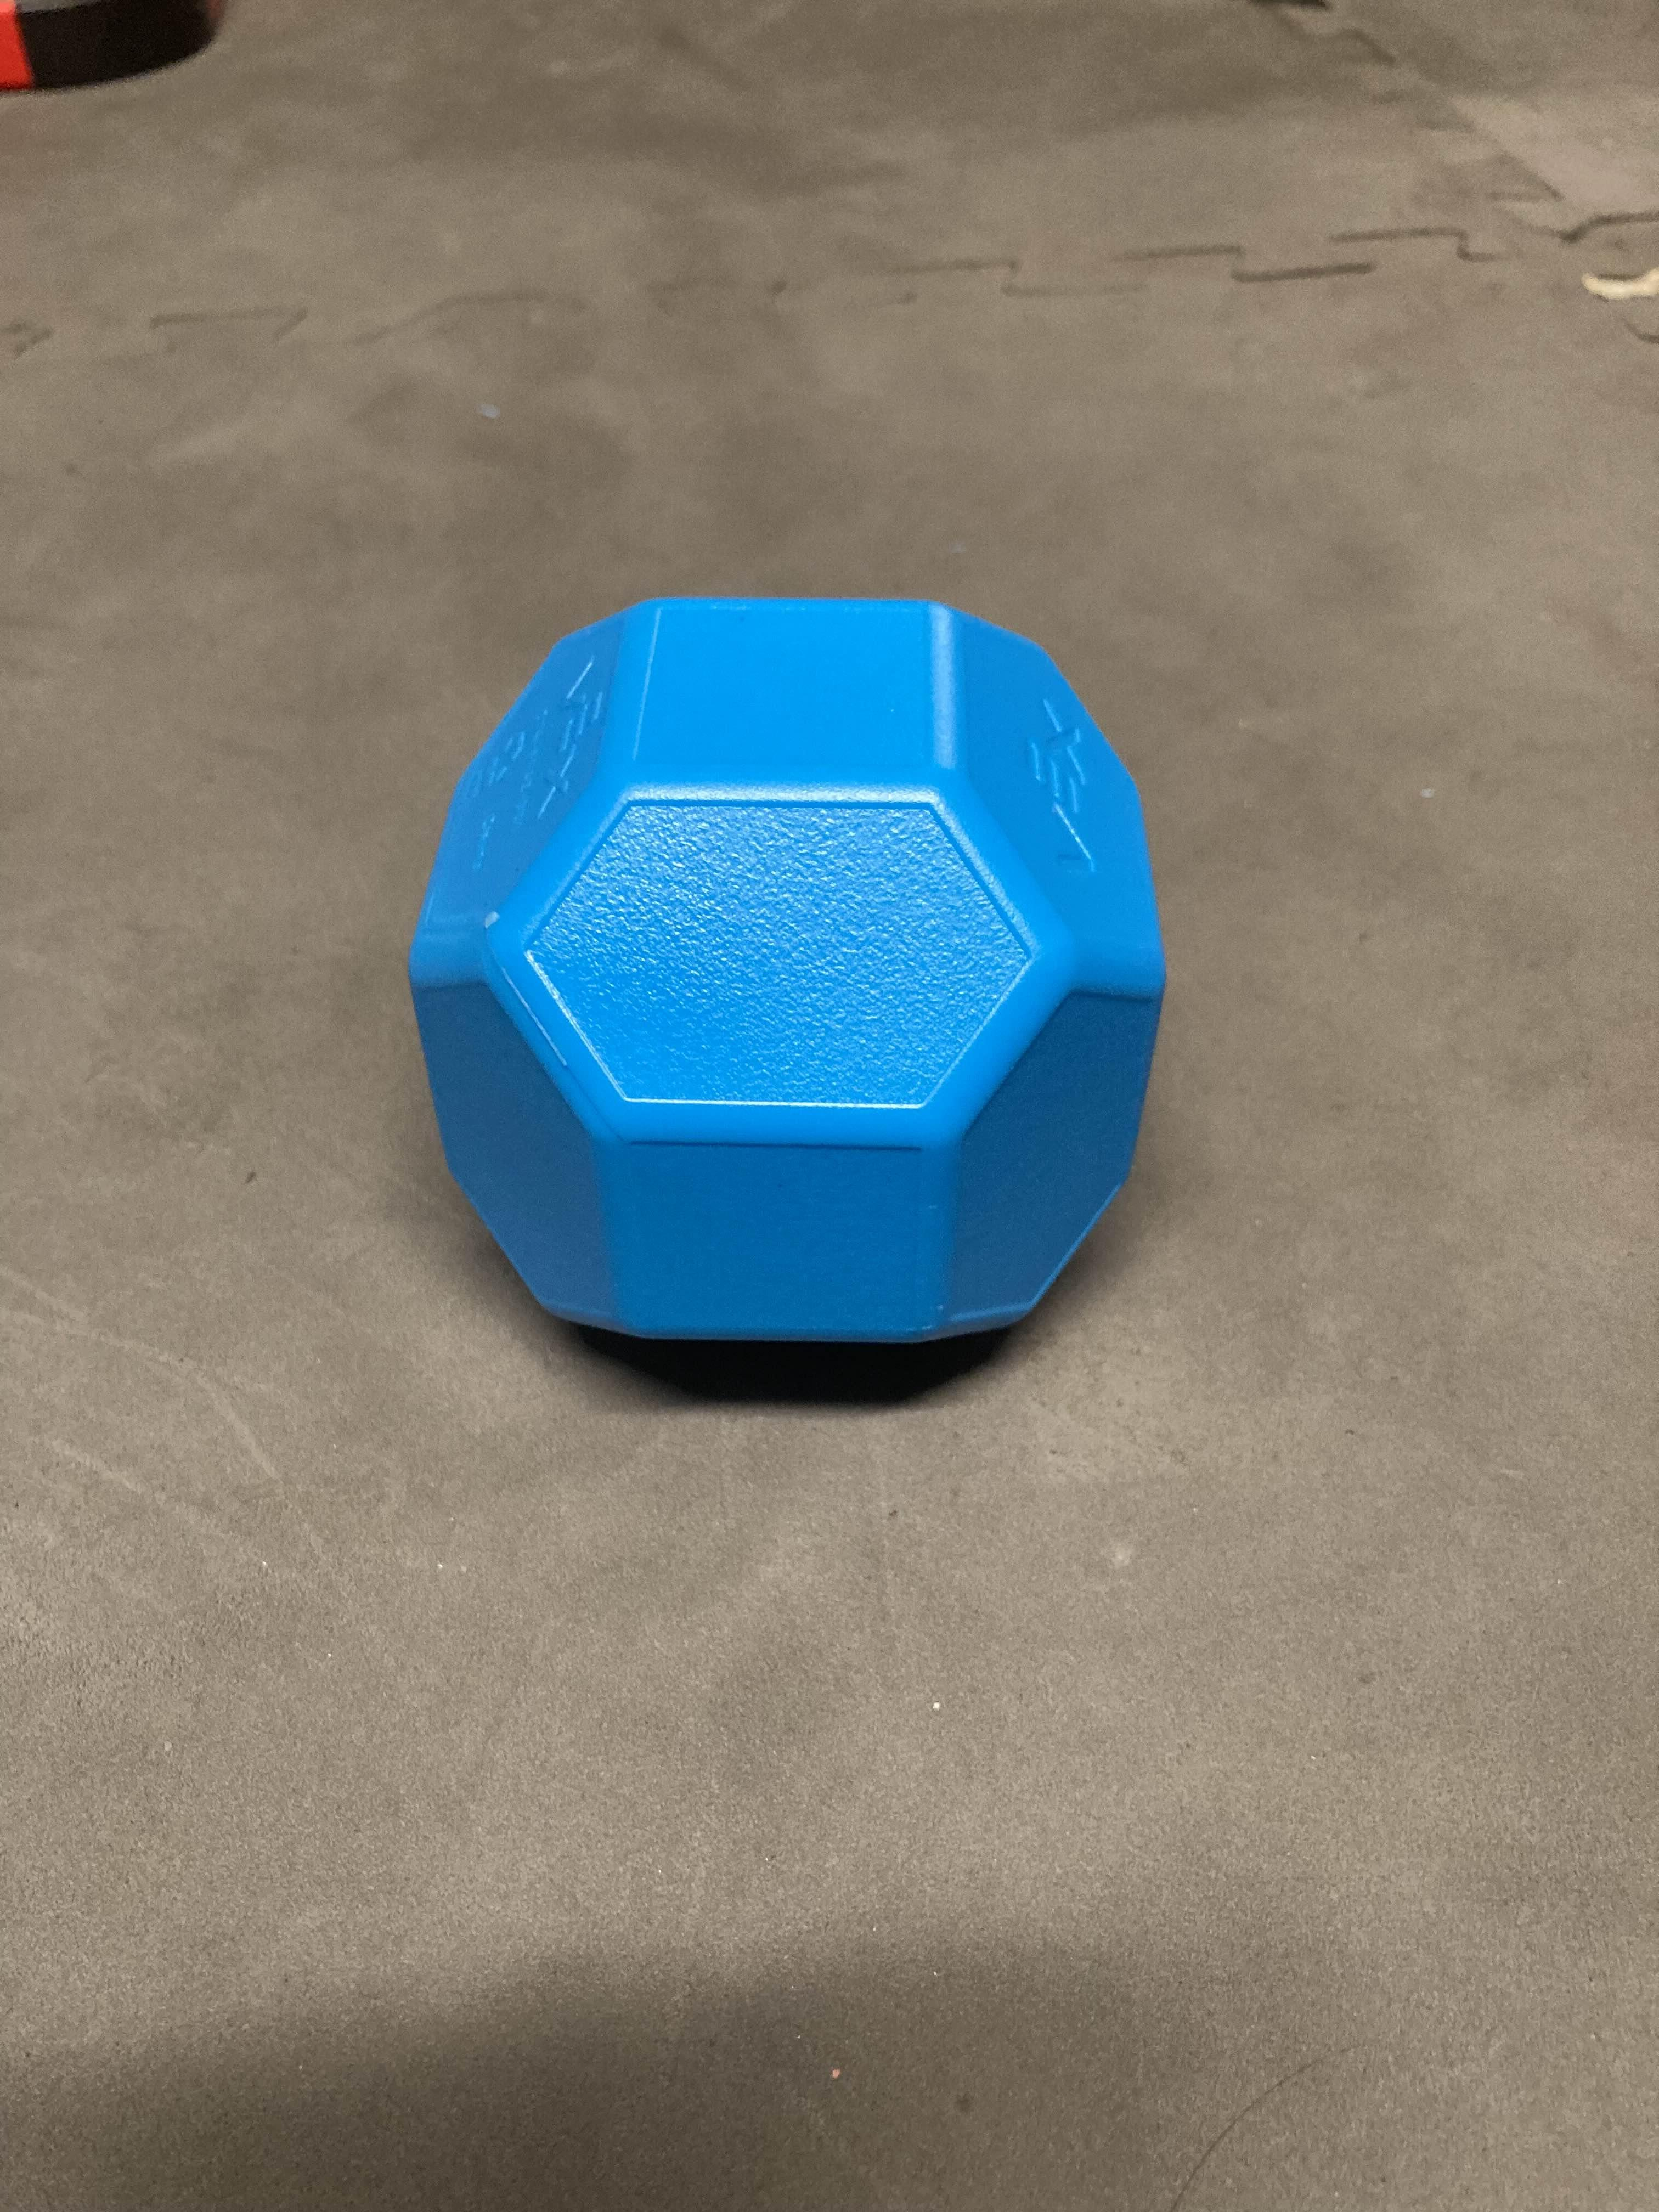Vex-Pieces-BLUE: (404, 594, 1169, 1359)
